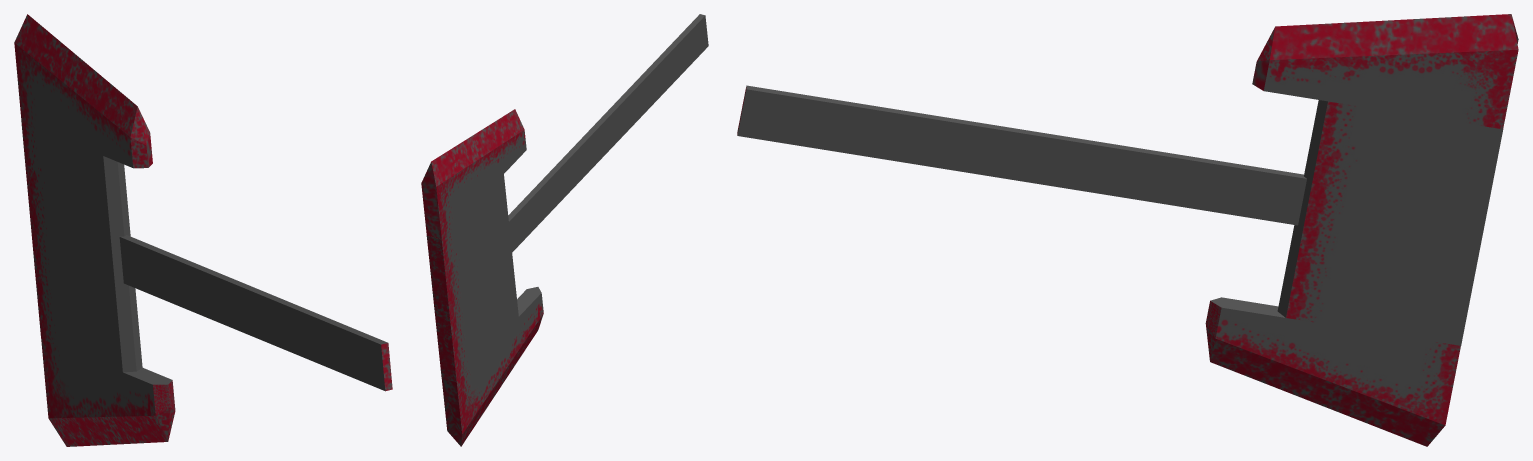
Rendered from M_AsciaBasculante.fbx.
3 views of the same model, side by side, from view 1: azimuth 30°, elevation 25°; view 2: azimuth 150°, elevation 25°; view 3: azimuth 270°, elevation 25° (orthographic). The views are drawn at different scales.
Parts seen in each view (by area): view 1: AsciaBasculante; view 2: AsciaBasculante; view 3: AsciaBasculante.
Part boxes in pixels (x1,y1,x2,y2): AsciaBasculante: [14, 14, 392, 446]; AsciaBasculante: [421, 14, 708, 446]; AsciaBasculante: [737, 14, 1518, 446].
Size of the model in its own units: 0.1722 by 3.37 by 5.52.
